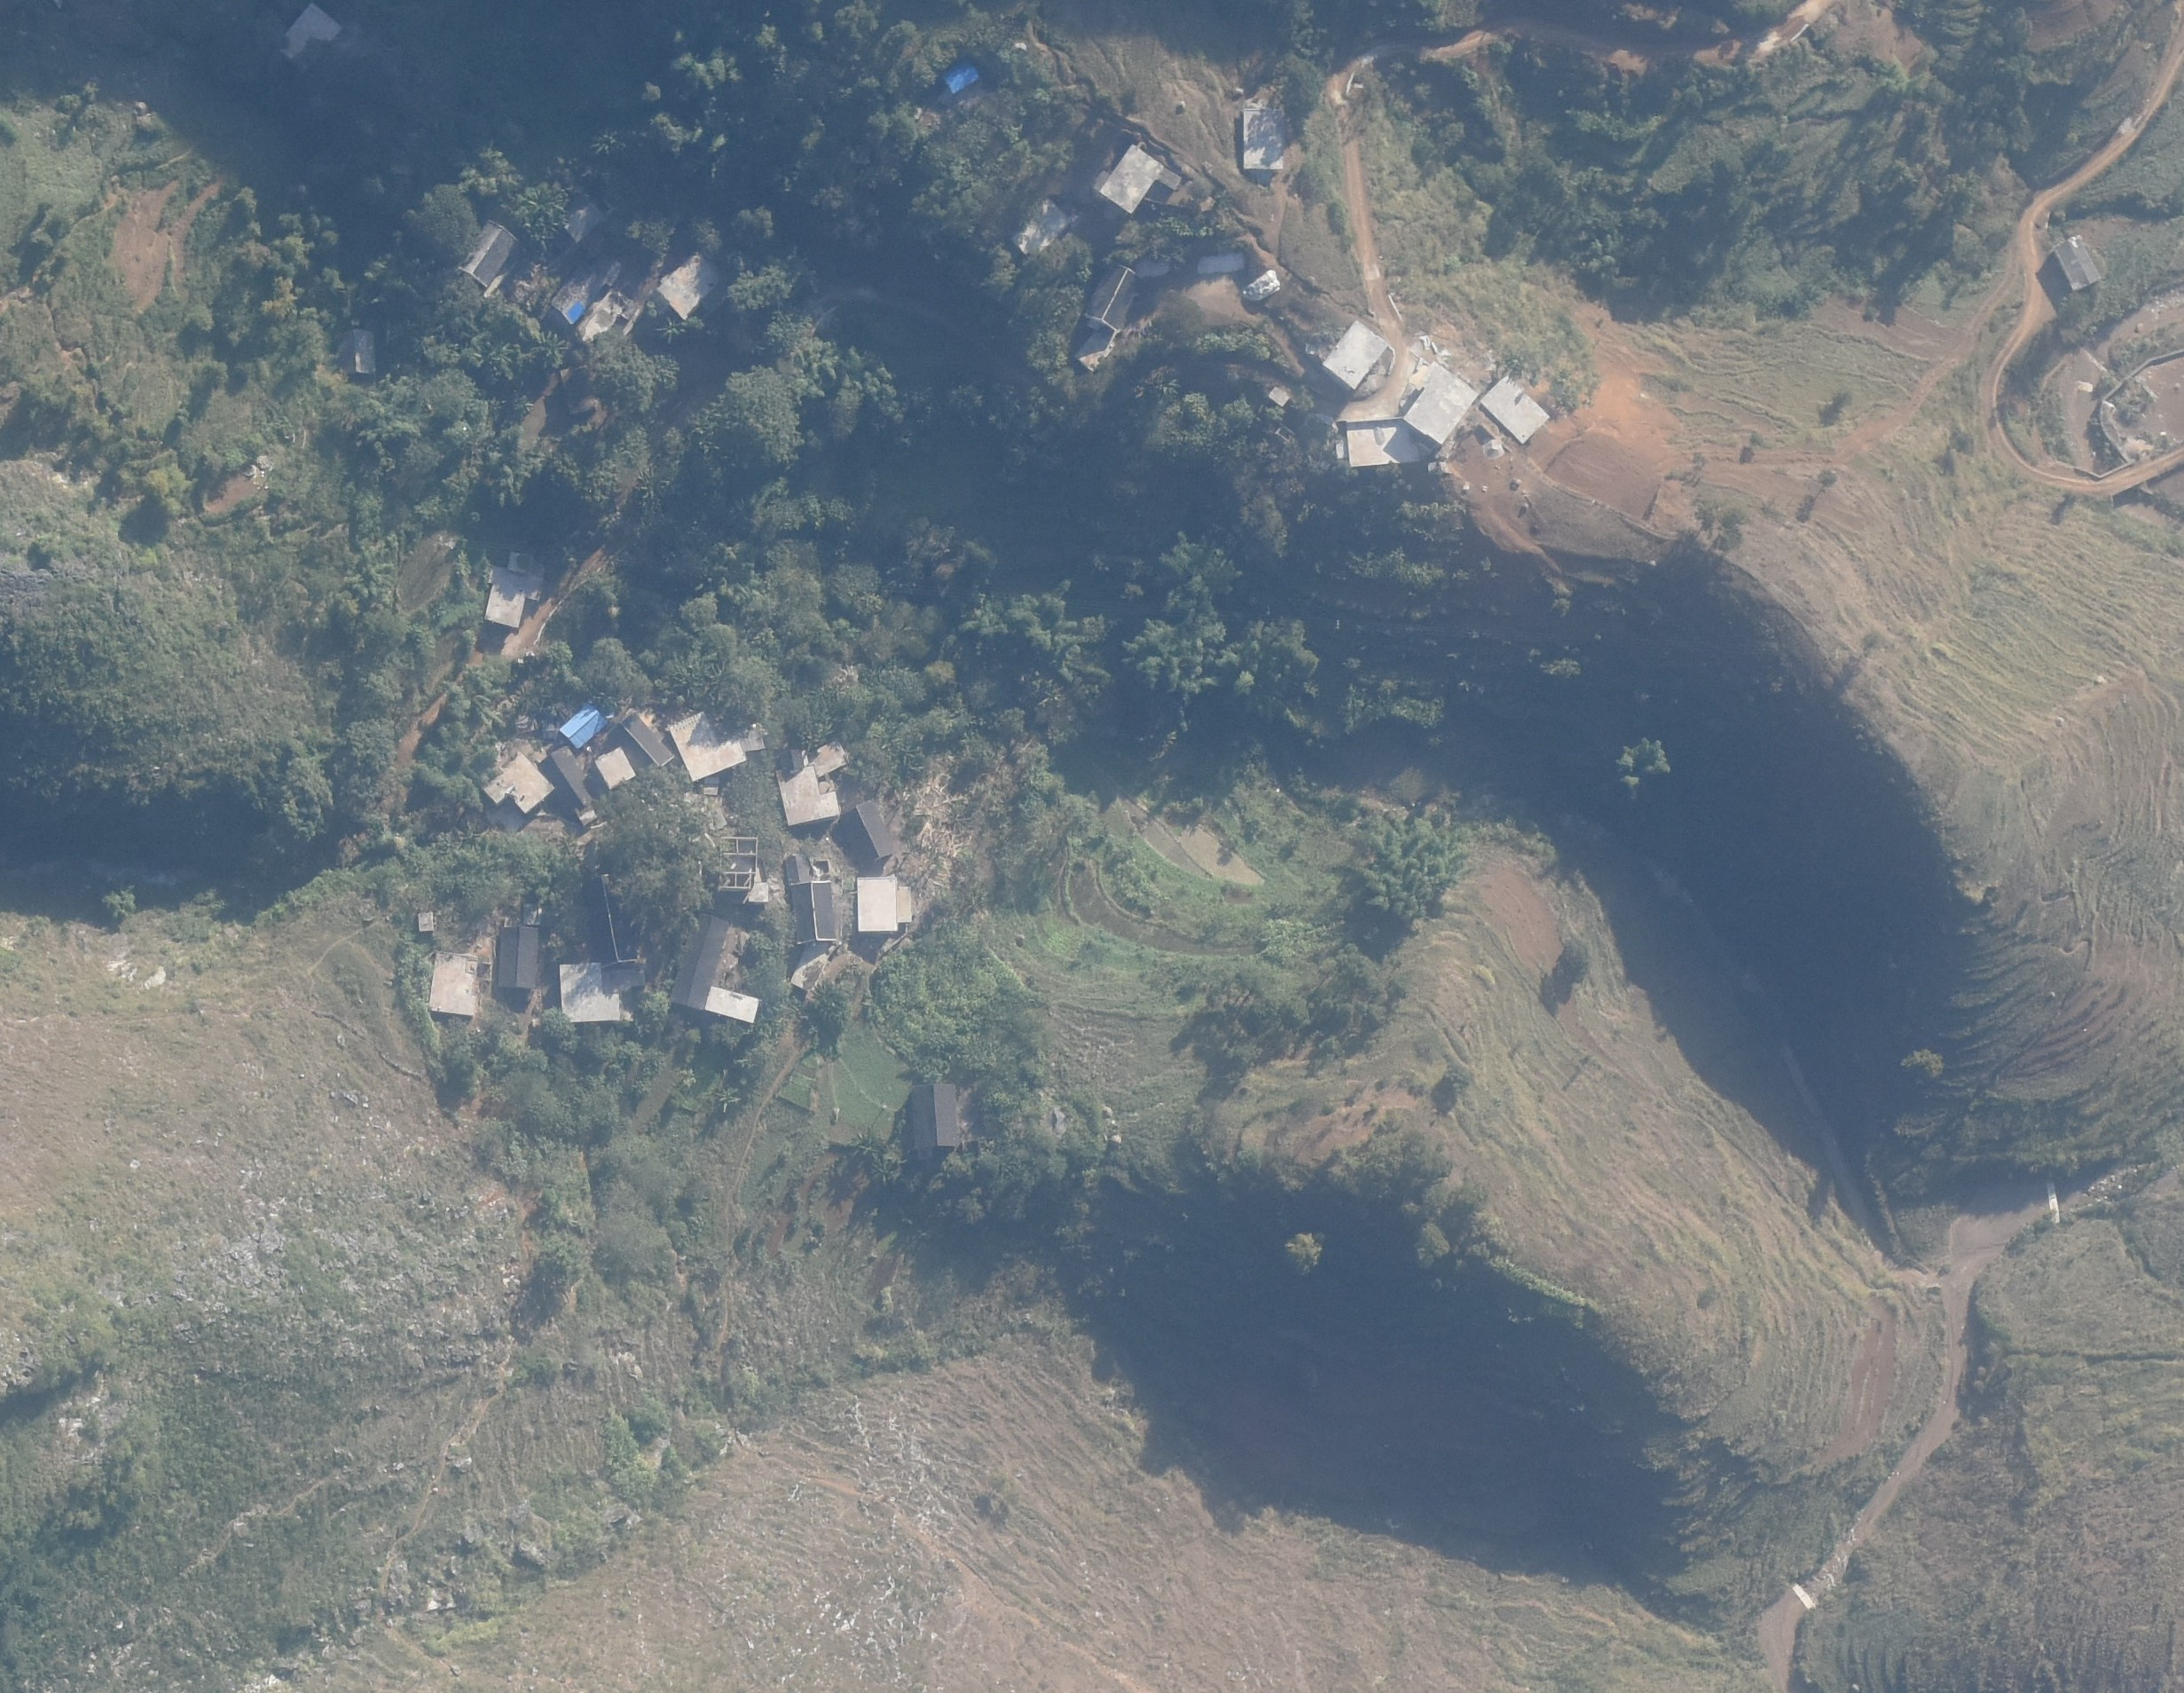building: (666, 912, 728, 1011), (1404, 364, 1477, 445), (668, 709, 747, 781), (1098, 146, 1181, 210), (582, 870, 639, 965), (654, 251, 727, 319), (776, 749, 840, 826), (1323, 320, 1390, 390), (484, 550, 545, 628), (1481, 376, 1548, 443), (483, 753, 554, 815), (457, 218, 518, 287), (1340, 416, 1421, 468), (281, 4, 340, 73), (1086, 261, 1140, 335), (557, 964, 622, 1024), (1010, 197, 1069, 260), (542, 749, 598, 814), (842, 801, 894, 867), (428, 950, 479, 1017), (619, 715, 675, 772), (911, 1083, 957, 1150), (497, 927, 541, 990), (791, 882, 835, 946), (860, 878, 911, 930), (1244, 109, 1284, 172), (2054, 237, 2098, 290), (719, 836, 758, 889), (703, 988, 759, 1023), (790, 946, 832, 990), (562, 201, 608, 243), (337, 329, 376, 374), (595, 745, 636, 787), (807, 738, 849, 776), (1194, 254, 1245, 273), (740, 723, 766, 752), (786, 853, 808, 882), (747, 883, 768, 902), (1269, 386, 1288, 408), (417, 911, 435, 932)
prefabricated-house: (560, 702, 605, 750), (940, 57, 980, 93)
